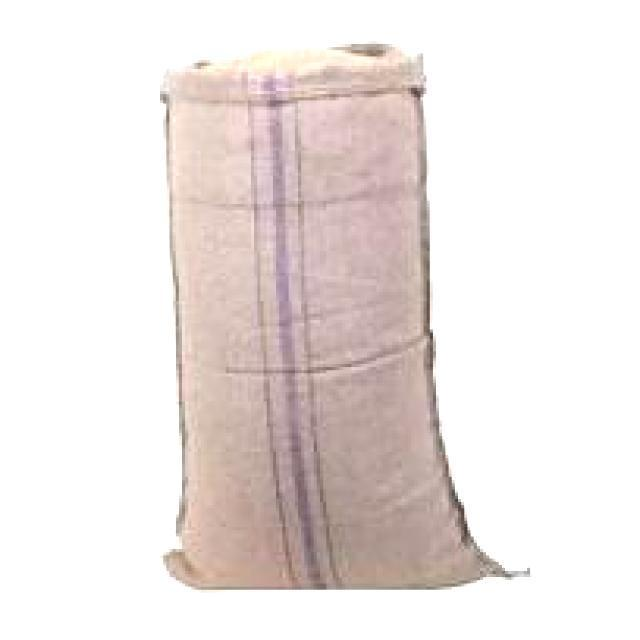gunny_bag: (144, 36, 538, 604)
